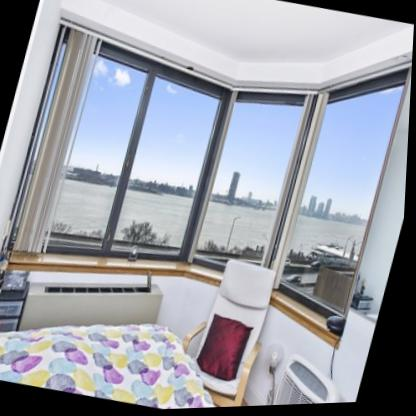Window: (3, 18, 236, 264), (192, 91, 315, 281)
